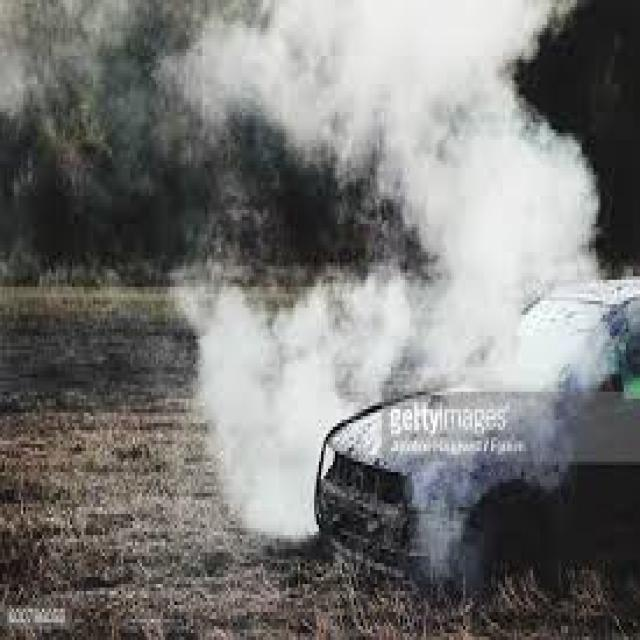Smoke: (177, 0, 600, 153), (366, 112, 599, 367), (174, 266, 314, 533)
